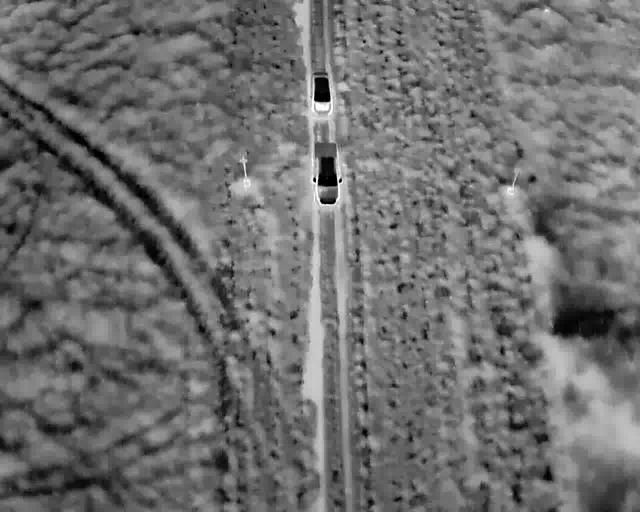car: (311, 140, 343, 206), (309, 70, 334, 118)
